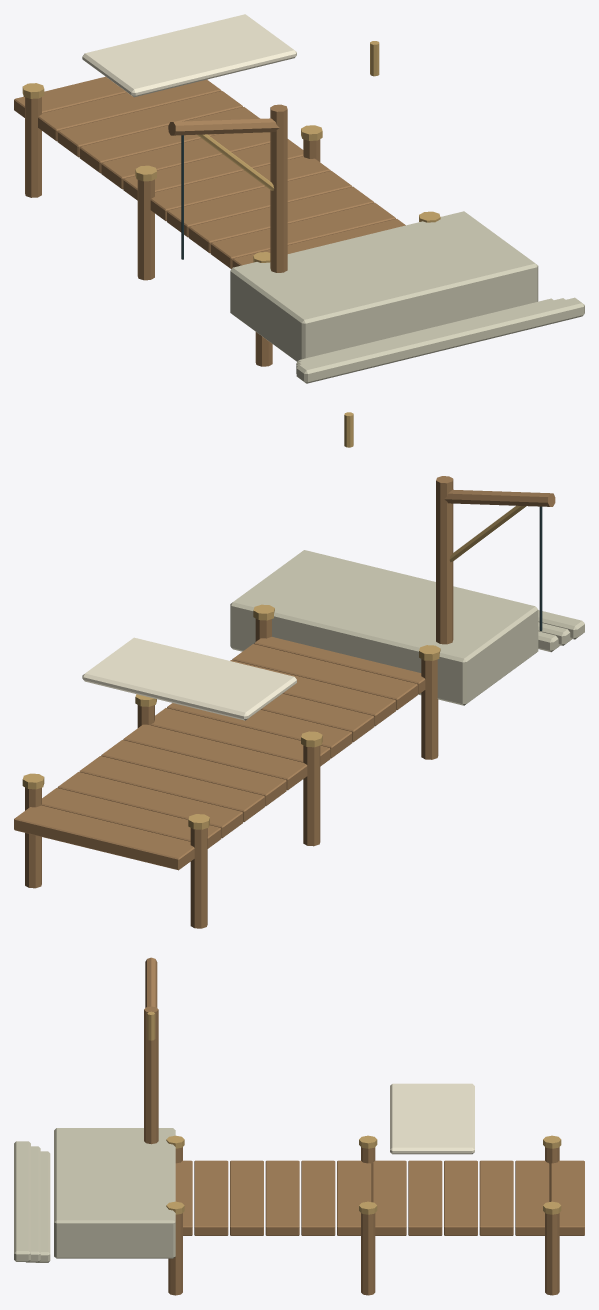
Rendered from level_19.glb.
The picture shows the model from 3 angles, top to bottom: view 1: azimuth 30°, elevation 25°; view 2: azimuth 150°, elevation 25°; view 3: azimuth 270°, elevation 25°; orthographic projection. The views are drawn at different scales.
Visible parts, largest first — view 1: dock — level 19; view 2: dock — level 19; view 3: dock — level 19.
Boxes of the visible parts, box(x1,y1,x2,y2) form: dock — level 19: box(14, 14, 584, 383); dock — level 19: box(14, 412, 584, 928); dock — level 19: box(14, 957, 584, 1295).
Bounding box in the file's own units: 5.14 × 4.56 × 9.4.
